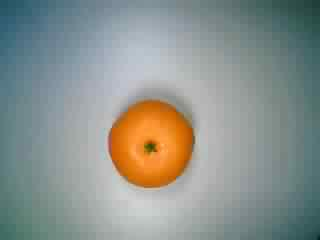orange: (104, 95, 202, 193)
